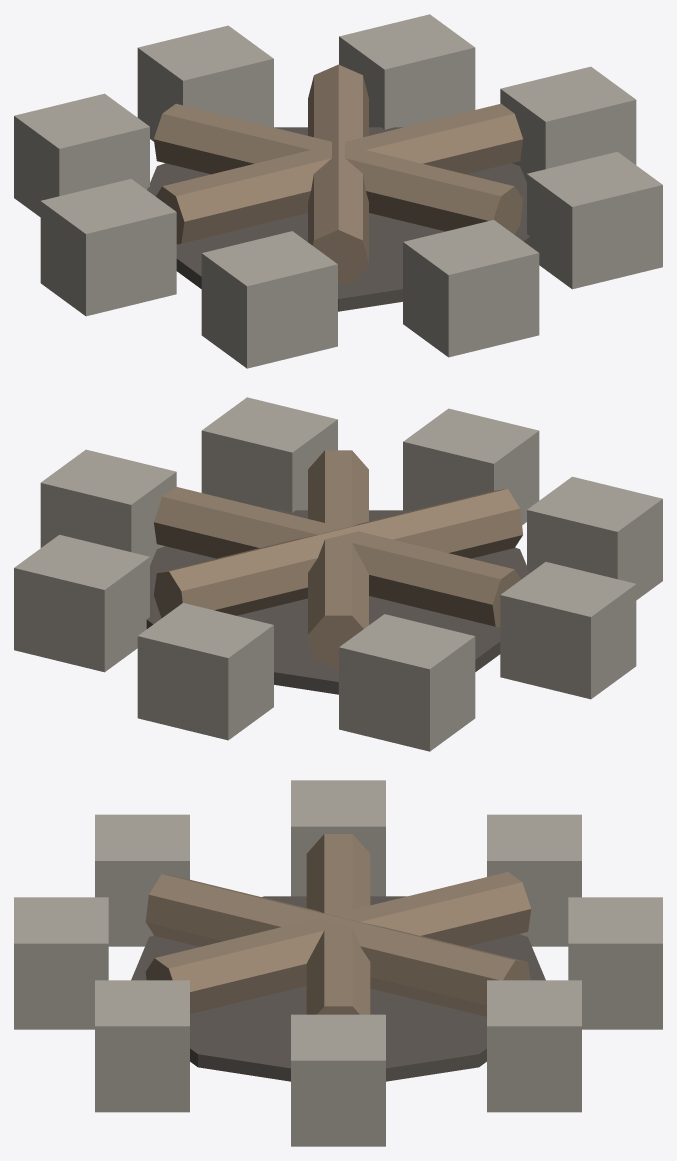
File: campfire.glb
The picture shows the model from 3 angles, top to bottom: view 1: azimuth 30°, elevation 25°; view 2: azimuth 150°, elevation 25°; view 3: azimuth 270°, elevation 25°; orthographic projection. The views are drawn at different scales.
Size of the model in its own units: 0.91 by 0.135 by 0.89.
